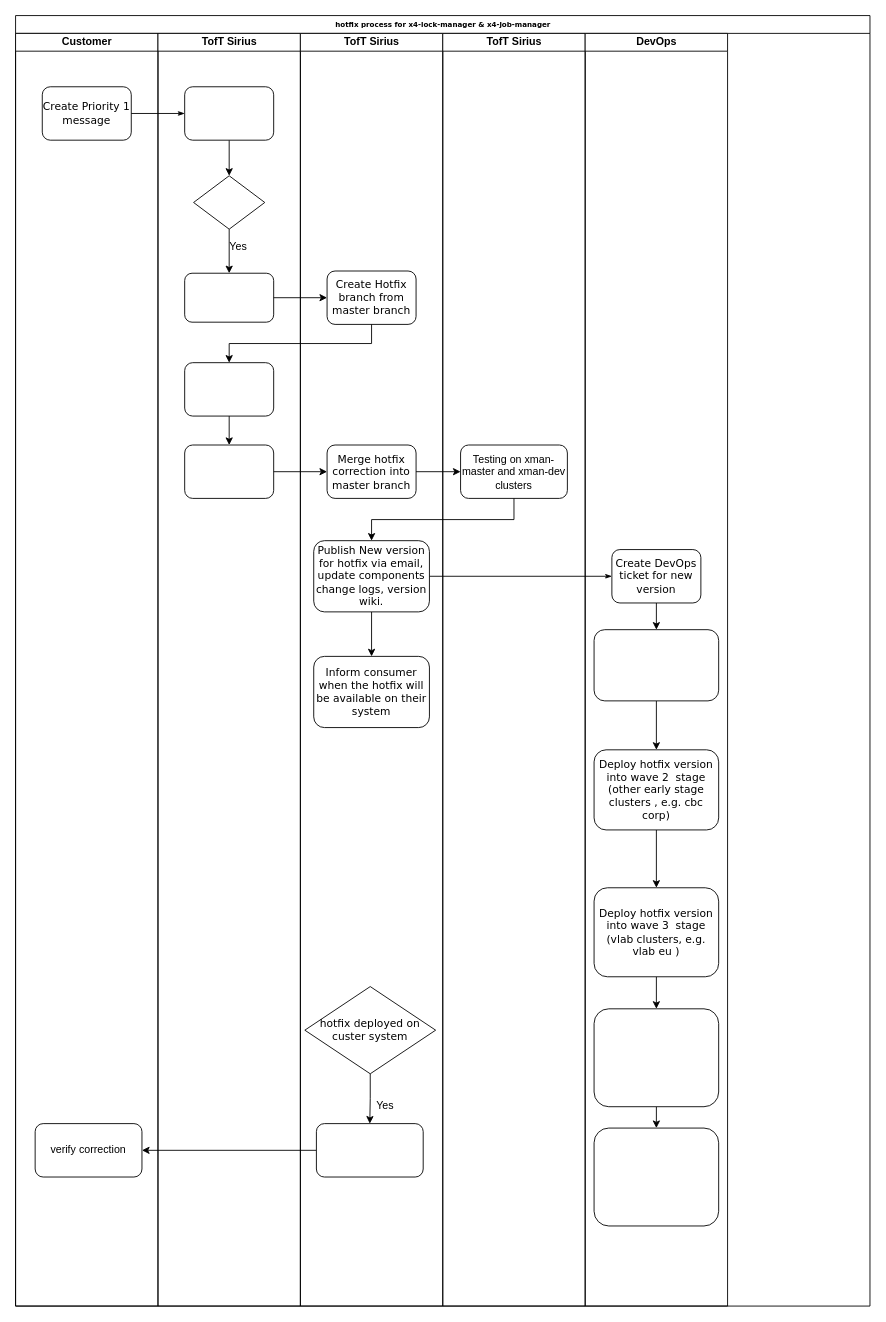
The diagram is 886 pixels wide and 1322 high, and some of its shapes have lost their labels. Each missing label, with the centre of its shape:
"Analyse the issue" belongs at point (229, 113).
"Create JIRA bug for hotfix" belongs at point (229, 297).
"Deploy hotfix version into wave 1 stage (early stage dev/devops)" belongs at point (656, 665).
"Deploy hotfix version into wave 4 stage (consumer hotfix clusters )" belongs at point (656, 1057).
"Deploy hotfix version into wave 5 stage (consumer production clusters )" belongs at point (656, 1176).
"hotfix necessary?" belongs at point (229, 202).
"Implement Correction" belongs at point (229, 389).
"Inform consumer the hotfix, make ticket as solution provided" belongs at point (369, 1150).
"Necessary Testing" belongs at point (229, 471).
